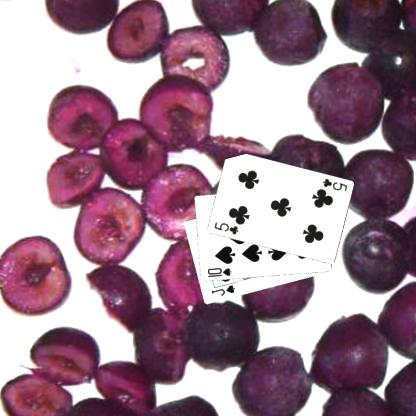10S: (204, 265, 232, 279)
5C: (211, 220, 239, 236), (320, 176, 348, 192)
JS: (209, 282, 236, 298)
